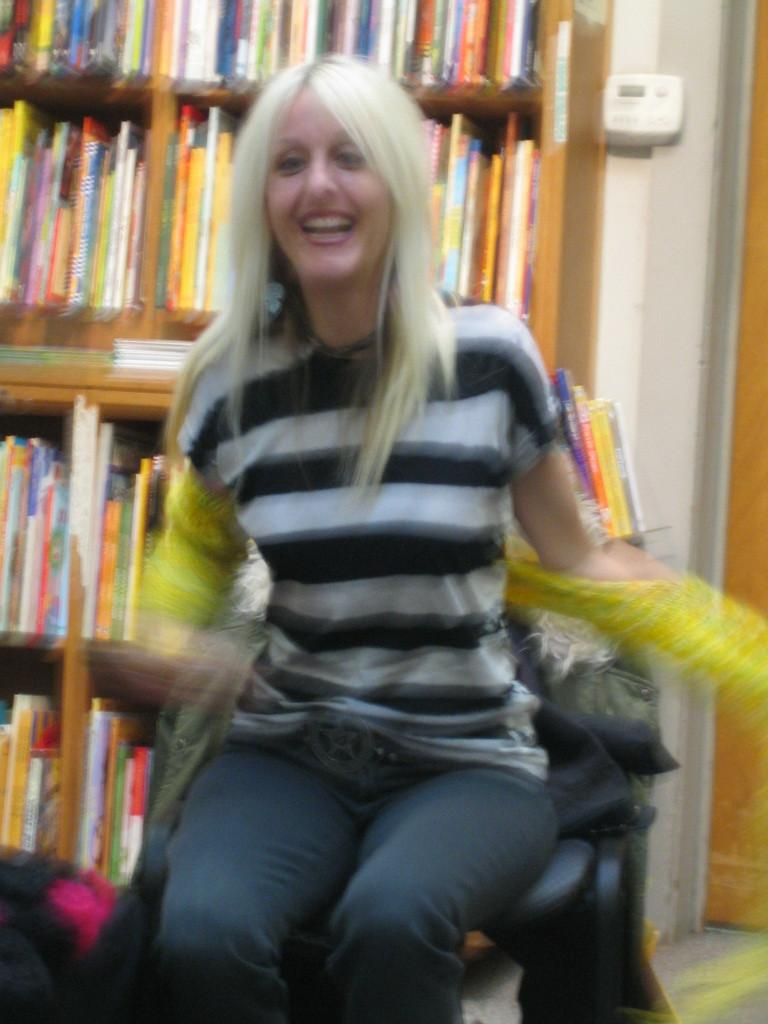Sem Máscara: (261, 90, 392, 279)
